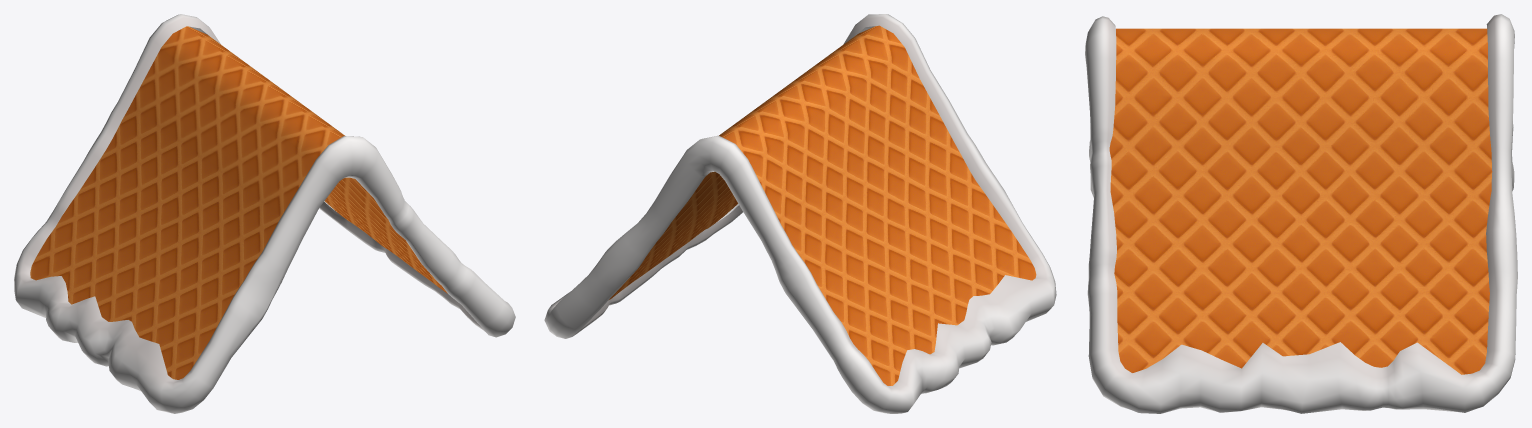
Rendered from Roof_inner_001.fbx.
3 views of the same model, side by side, from view 1: azimuth 30°, elevation 25°; view 2: azimuth 150°, elevation 25°; view 3: azimuth 270°, elevation 25° (orthographic). The views are drawn at different scales.
Parts seen in each view (by area): view 1: Roof_inner_001; view 2: Roof_inner_001; view 3: Roof_inner_001.
Part boxes in pixels (x1,y1,x2,y2): Roof_inner_001: (14, 14, 515, 413); Roof_inner_001: (544, 14, 1056, 413); Roof_inner_001: (1085, 14, 1517, 413).
Size of the model in its own units: 8.01 by 5.17 by 6.83.
